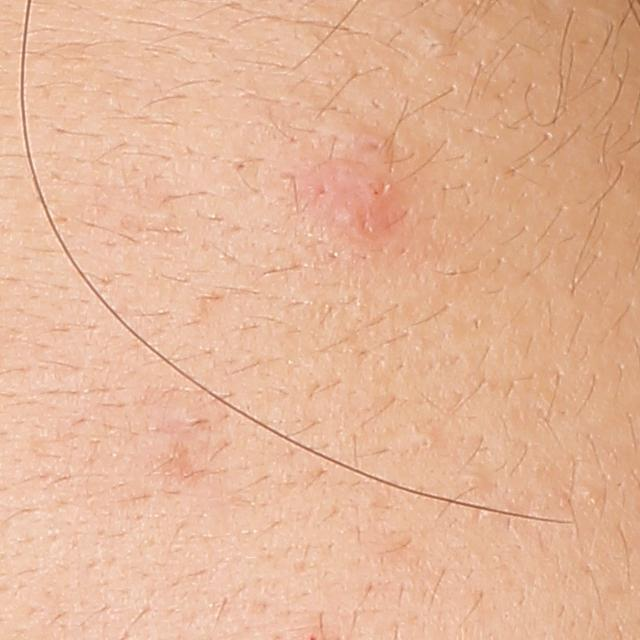comedo: (417, 27, 456, 59), (412, 432, 437, 453), (577, 485, 593, 507)
papule: (323, 160, 397, 240)
